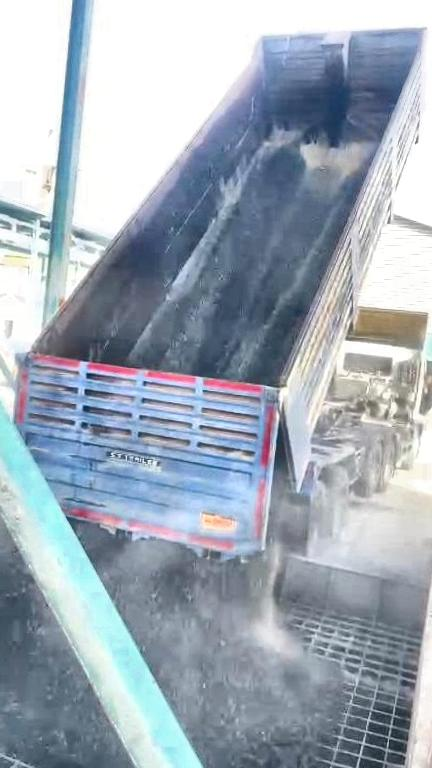gravel: (78, 525, 336, 768), (140, 147, 355, 384), (0, 506, 129, 768)
